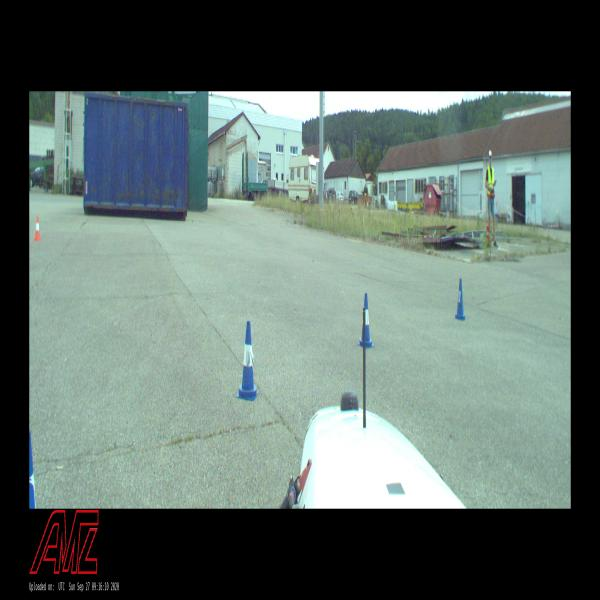blue_cone: (237, 322, 258, 401), (358, 292, 374, 347), (29, 429, 37, 509), (454, 279, 466, 320)
orange_cone: (34, 216, 41, 241)
